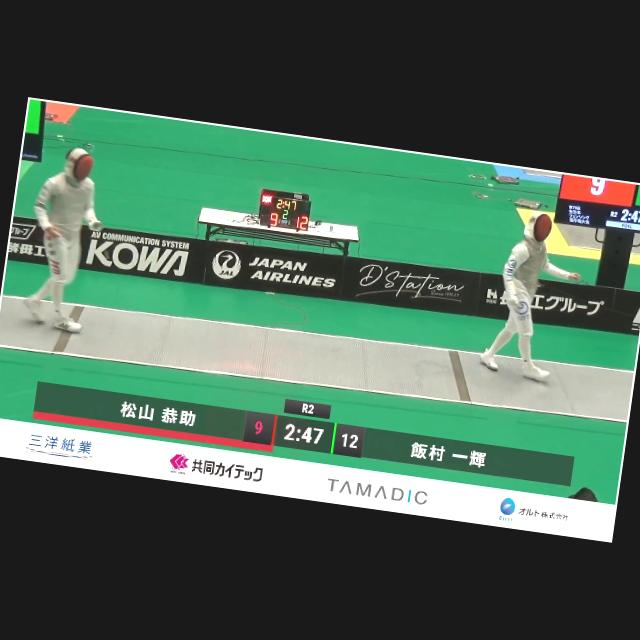blade: (82, 220, 122, 266)
